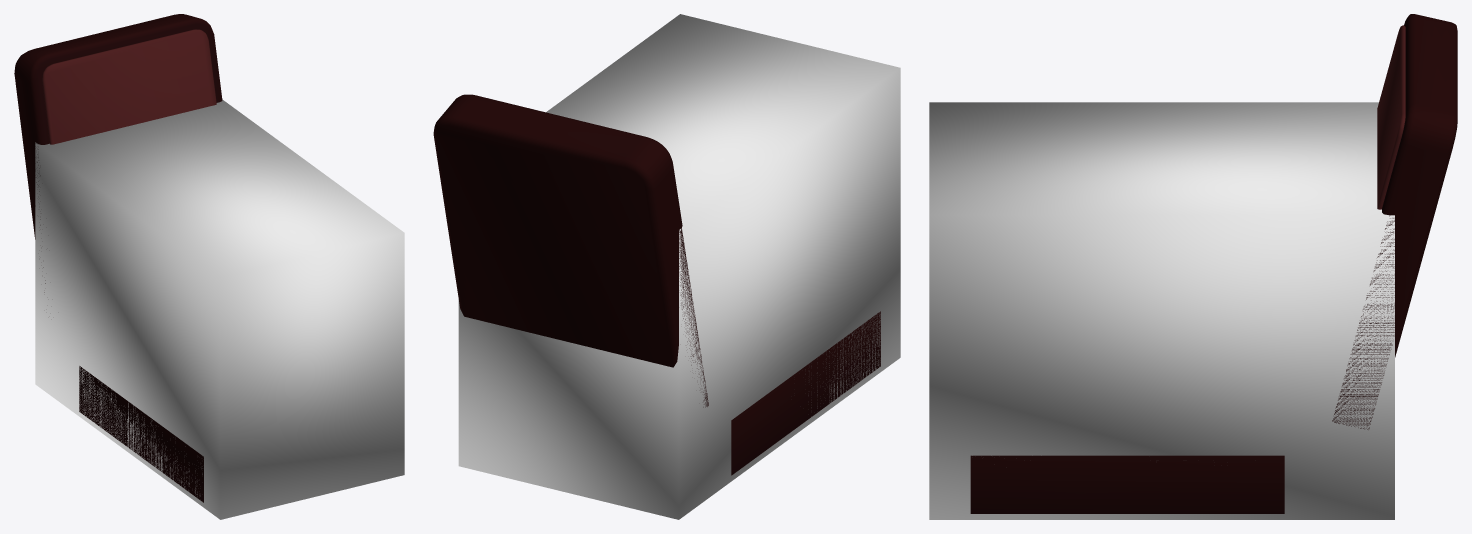
File: medalla.glb
3 views of the same model, side by side, from view 1: azimuth 30°, elevation 25°; view 2: azimuth 150°, elevation 25°; view 3: azimuth 270°, elevation 25° (orthographic). The views are drawn at different scales.
Visible parts, largest first — view 1: estuche-colcaja, tapa, estuche; view 2: estuche-colcaja, tapa, estuche; view 3: estuche-colcaja, tapa, estuche.
Boxes of the visible parts, left/top/right/bottom form: estuche-colcaja: left=35, top=99, right=404, bottom=519; tapa: left=14, top=14, right=222, bottom=292; estuche: left=79, top=366, right=203, bottom=502; estuche-colcaja: left=458, top=14, right=900, bottom=519; tapa: left=433, top=94, right=708, bottom=407; estuche: left=731, top=311, right=880, bottom=475; estuche-colcaja: left=929, top=102, right=1394, bottom=519; tapa: left=1332, top=14, right=1457, bottom=429; estuche: left=970, top=455, right=1284, bottom=513.
Size of the model in its own units: 0.062 by 0.103 by 0.1226.
